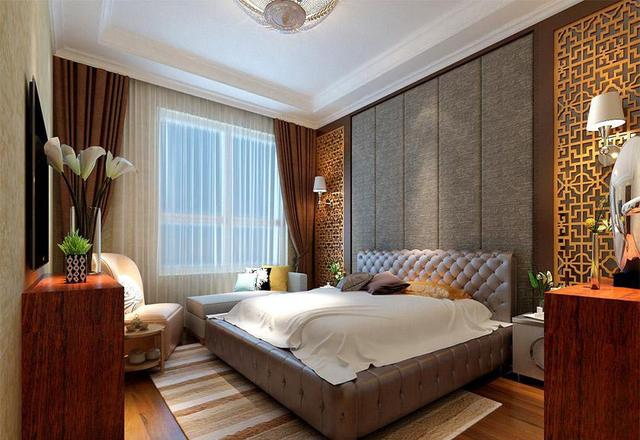床: (207, 283, 505, 429)
枕头: (333, 271, 413, 297), (232, 266, 301, 295)
灯: (235, 2, 339, 36), (582, 86, 630, 157), (308, 173, 328, 202)
